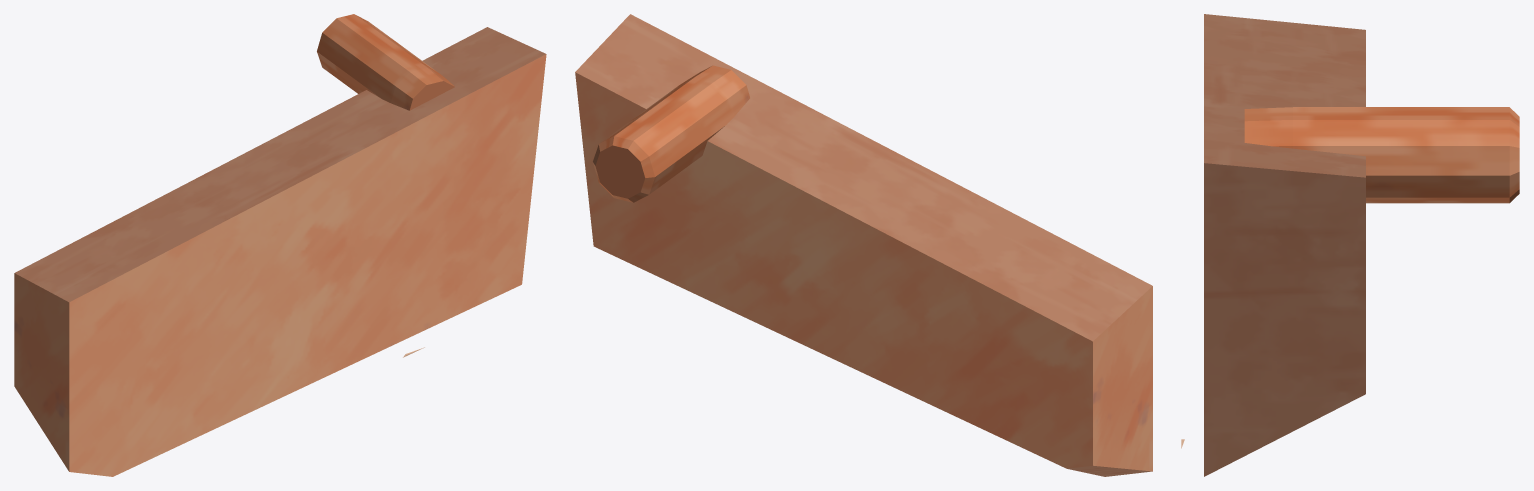
The model's file is wall2_upper_shutter_s02.fbx.
The picture shows the model from 3 angles, left to right: view 1: azimuth 30°, elevation 25°; view 2: azimuth 150°, elevation 25°; view 3: azimuth 270°, elevation 25°; orthographic projection. The views are drawn at different scales.
Visible parts, largest first — view 1: wall2_upper_shutter_s02; view 2: wall2_upper_shutter_s02; view 3: wall2_upper_shutter_s02.
Boxes of the visible parts, x1,y1,x2,y2 form: wall2_upper_shutter_s02: (14, 14, 546, 476); wall2_upper_shutter_s02: (575, 14, 1152, 476); wall2_upper_shutter_s02: (1181, 14, 1519, 476).
Bounding box in the file's own units: 5.03 × 3.19 × 2.09.
